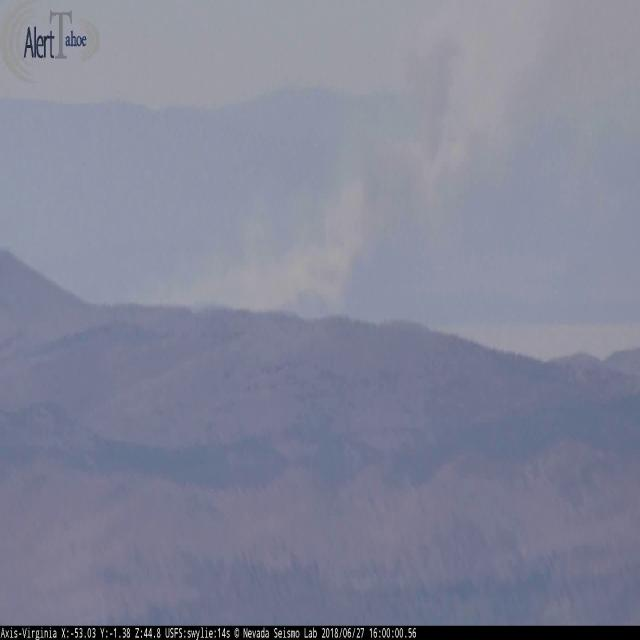smoke: (149, 2, 570, 316)
